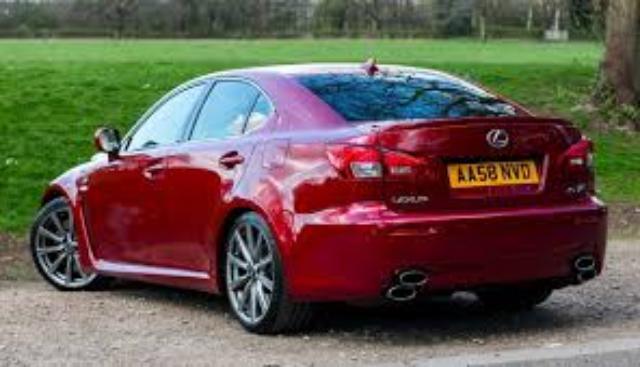lexus: (29, 57, 608, 334)
